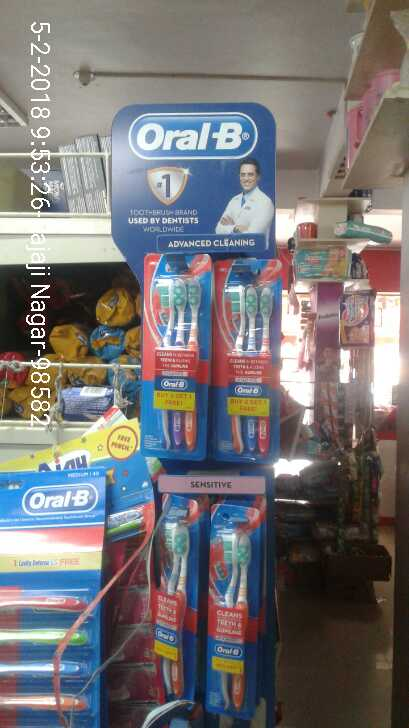oralb: (205, 513, 268, 697), (216, 280, 278, 451), (149, 264, 199, 444), (157, 495, 187, 702)
